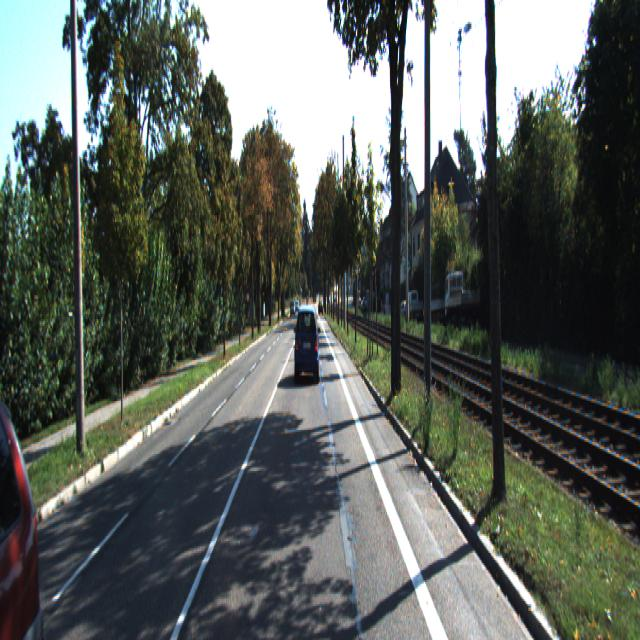Car: (0, 371, 75, 638), (444, 264, 480, 330), (294, 303, 320, 386), (422, 280, 446, 324), (406, 289, 423, 322)
